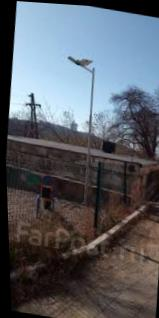Animal: (49, 45, 119, 215)
